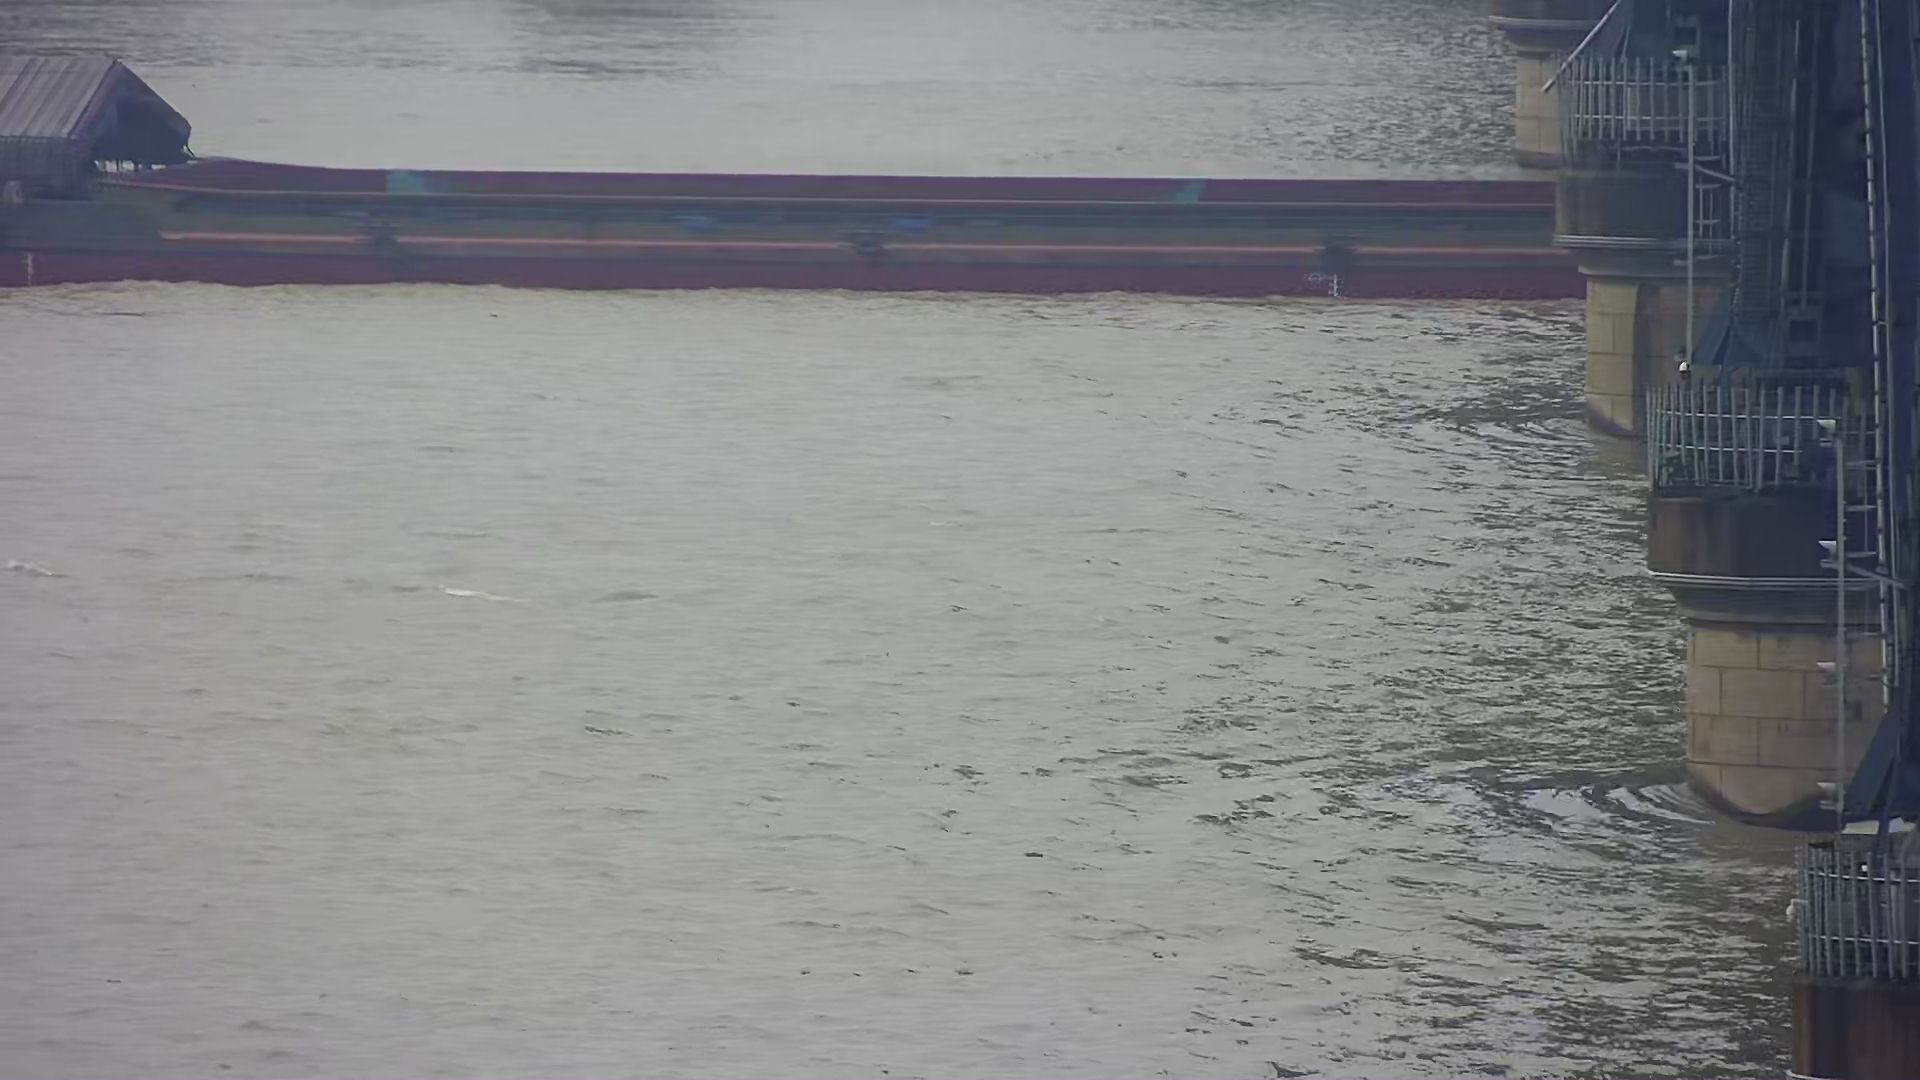bridge: (1490, 3, 1920, 1077)
ship: (5, 42, 1557, 301)
